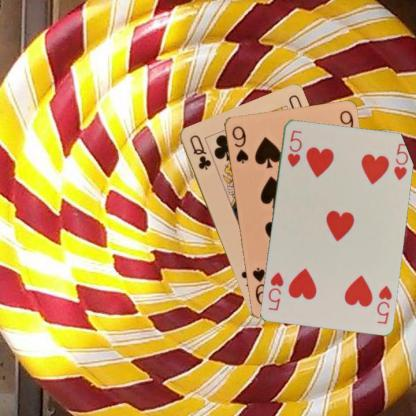5h: (284, 127, 304, 168), (374, 282, 393, 324)
9s: (228, 123, 249, 164)
Qc: (187, 132, 212, 171)
